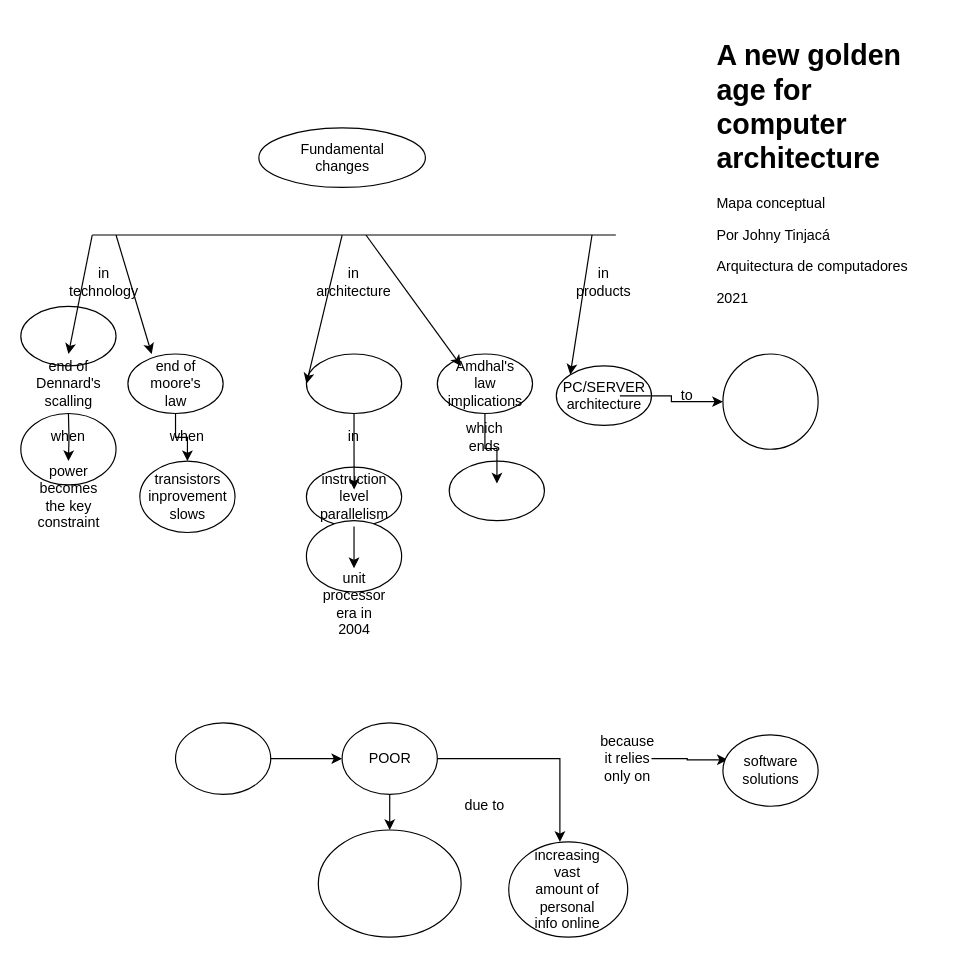
This 970x958 diagram has some shape labels left out. Each missing label, with the centre of its shape:
easy multicore era: (496,490)
IOT, mobile, cloud architecture: (770,401)
Limitations and inefficiencies: (353,383)
SECURITY: (222,758)
use of cloud based computing sharing hardware: (389,883)
